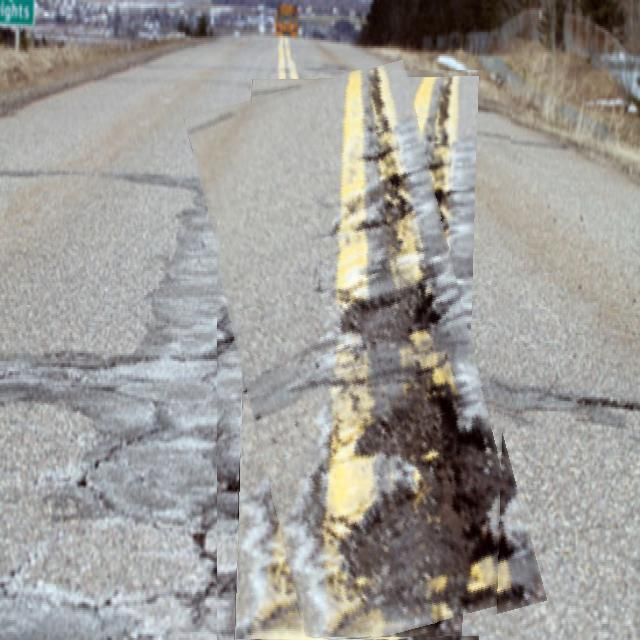Pothole: (217, 70, 513, 640)
